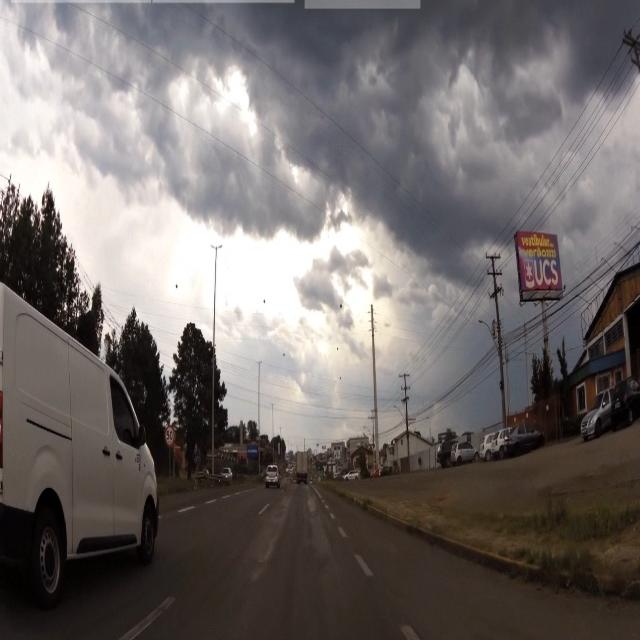R-19: (165, 426, 175, 444)
